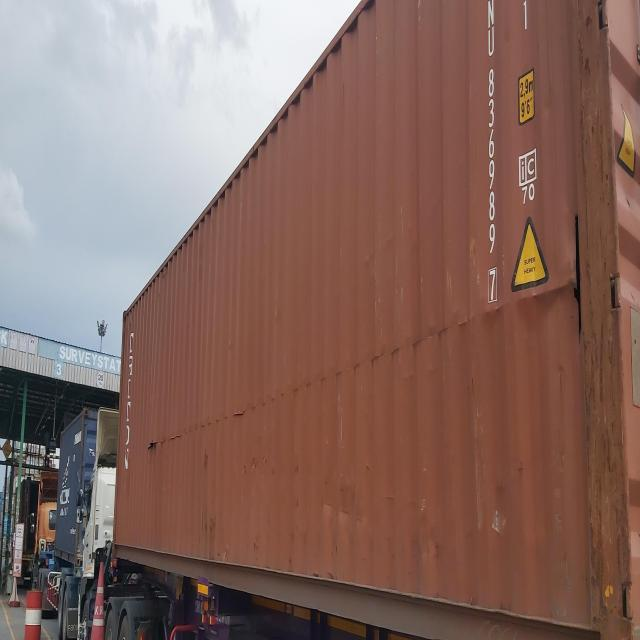hole: (148, 440, 159, 453)
